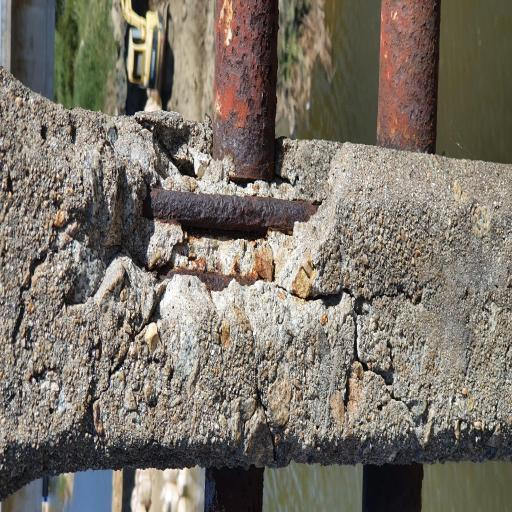exposed_rebar: (143, 188, 318, 233)
spalling: (52, 113, 350, 307)
